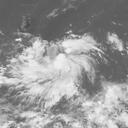cyclone: (19, 37, 89, 102)
